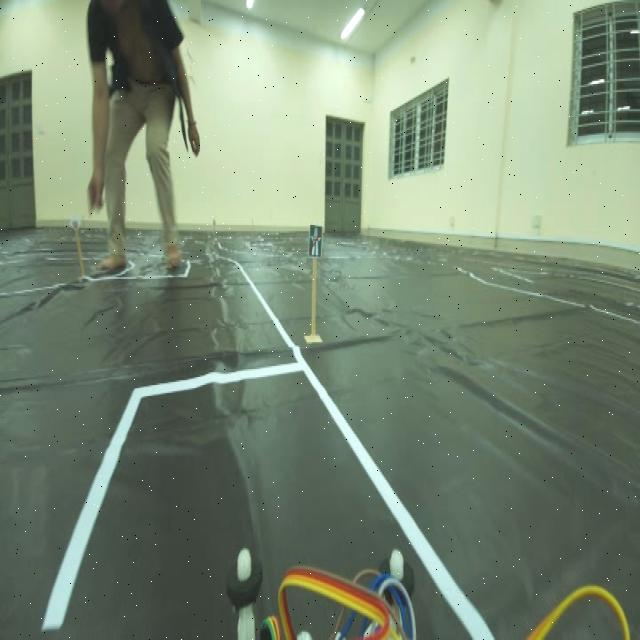highway_exit: (304, 219, 326, 272)
